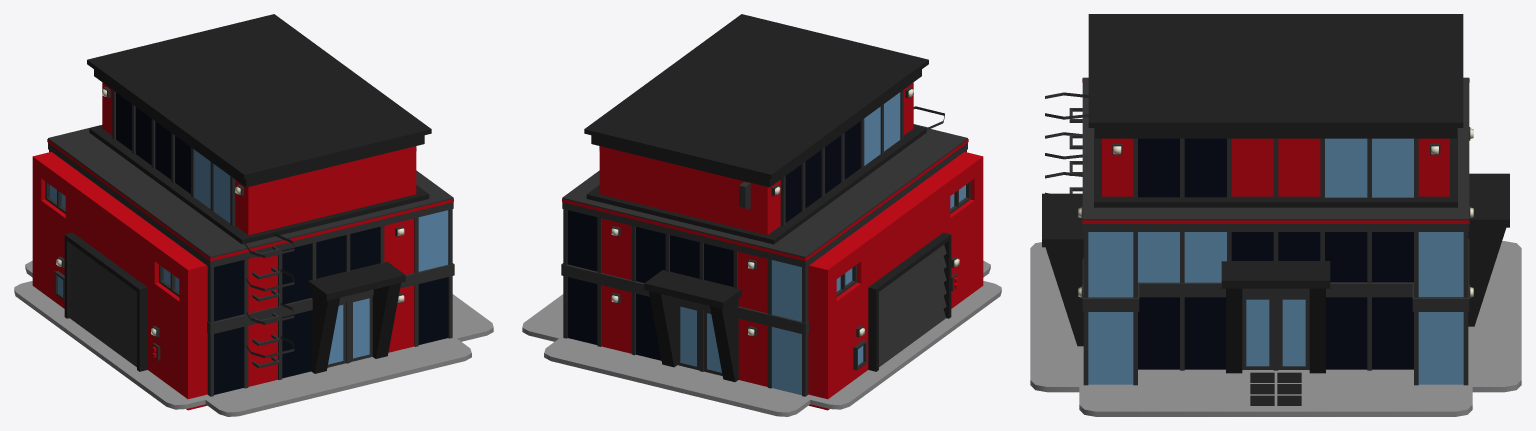
The model's file is Building_A.fbx.
3 views of the same model, side by side, from view 1: azimuth 30°, elevation 25°; view 2: azimuth 150°, elevation 25°; view 3: azimuth 270°, elevation 25° (orthographic). The views are drawn at different scales.
Visible parts, largest first — view 1: Building_A; view 2: Building_A; view 3: Building_A.
Part boxes in pixels (x1=…): Building_A: x1=14, y1=14, x2=493, y2=416; Building_A: x1=522, y1=14, x2=1001, y2=416; Building_A: x1=1030, y1=14, x2=1521, y2=416.
Bounding box in the file's own units: 265 × 173 × 291.
